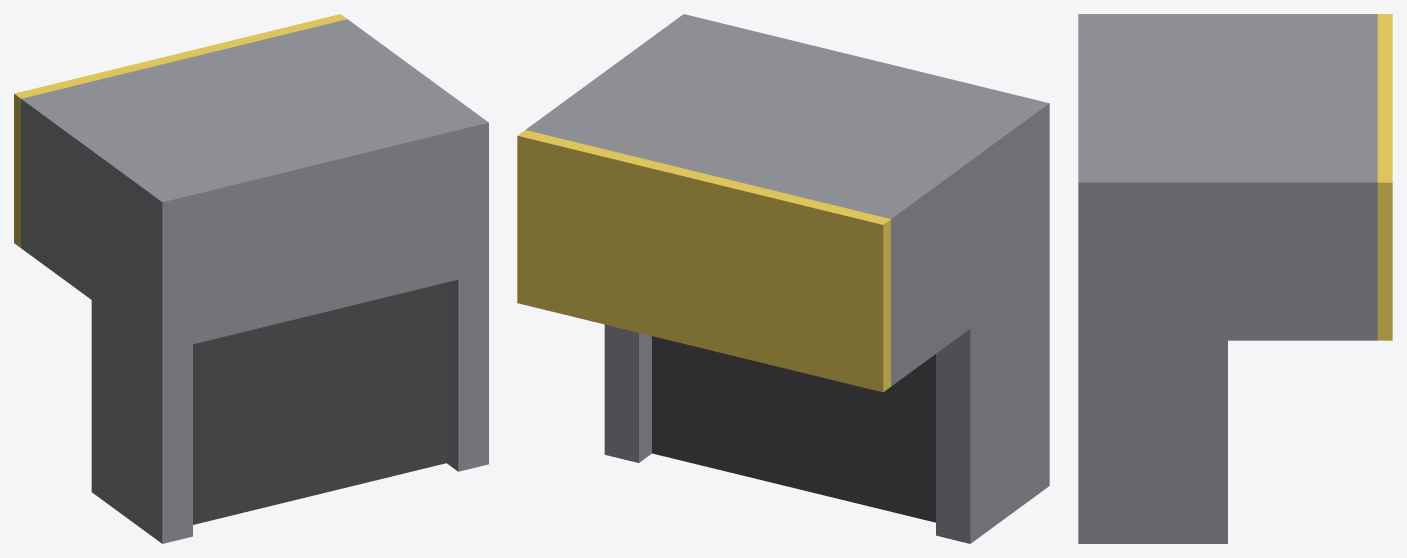
The model's file is extractor_held.gltf.
3 renders of one model, left to right at view 1: azimuth 30°, elevation 25°; view 2: azimuth 150°, elevation 25°; view 3: azimuth 270°, elevation 25°, orthographic. The views are drawn at different scales.
Visible parts, largest first — view 1: conveyor_extractor_held; view 2: conveyor_extractor_held; view 3: conveyor_extractor_held.
Part boxes in pixels (bbox=[...]): conveyor_extractor_held: bbox=[14, 14, 488, 543]; conveyor_extractor_held: bbox=[517, 14, 1049, 543]; conveyor_extractor_held: bbox=[1078, 14, 1392, 543].
Size of the model in its own units: 0.16 by 0.16 by 0.126.
